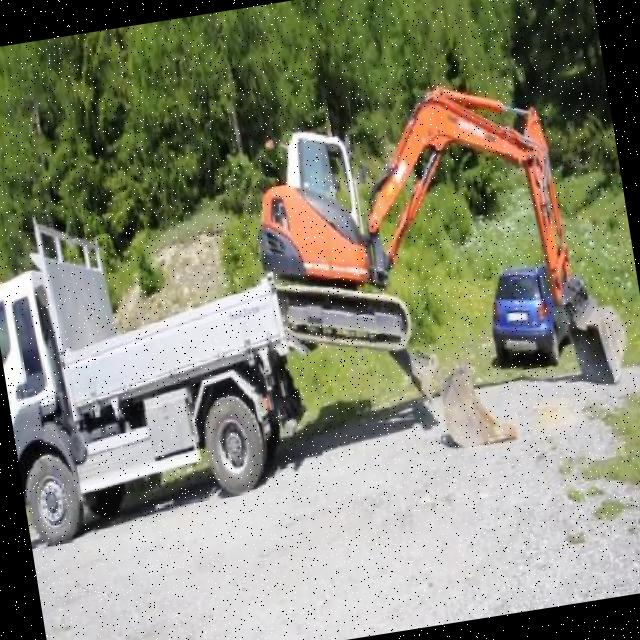Excavator: (233, 62, 633, 433)
